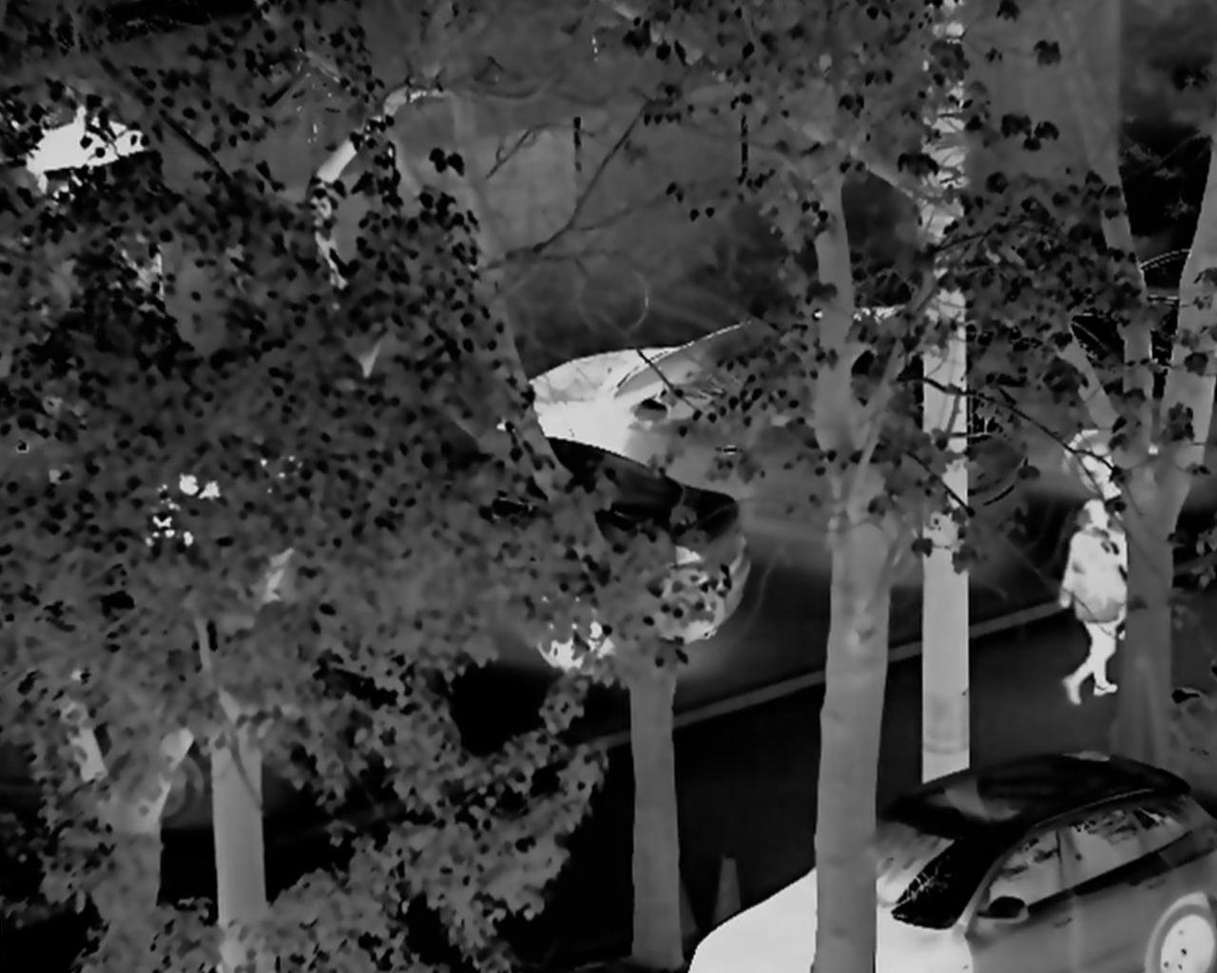person: (1063, 489, 1129, 706)
